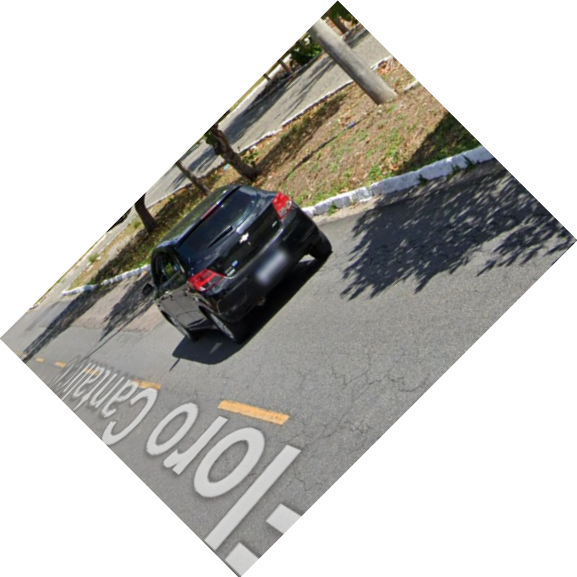car: (141, 179, 346, 352)
